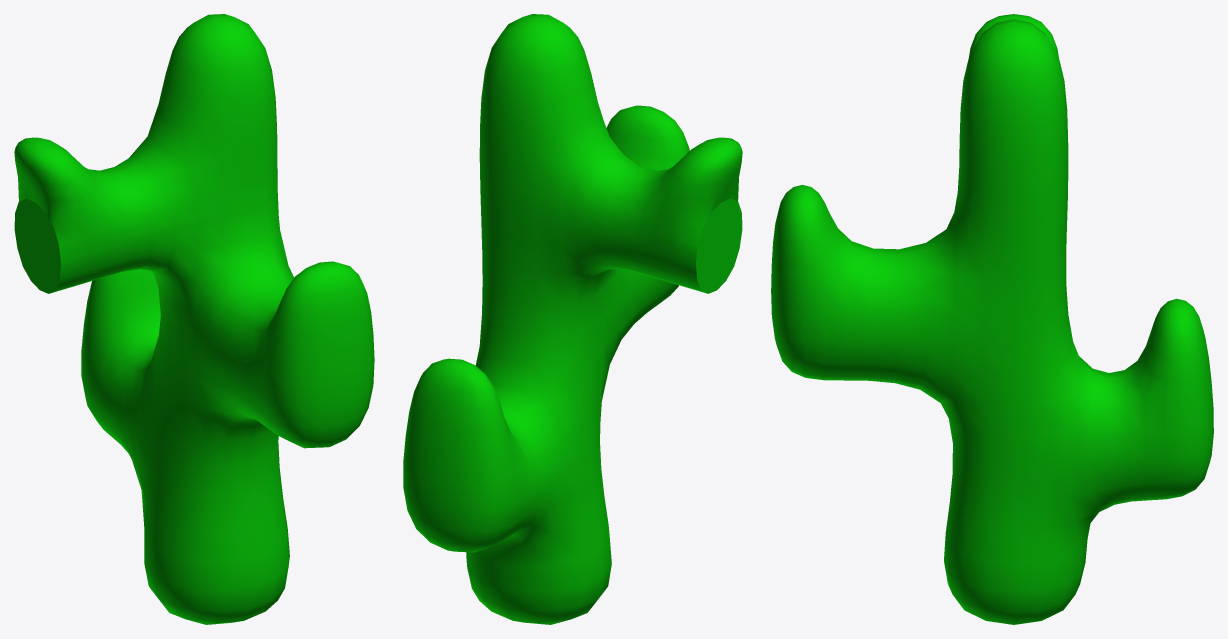
File: Cactus.fbx
3 views of the same model, side by side, from view 1: azimuth 30°, elevation 25°; view 2: azimuth 150°, elevation 25°; view 3: azimuth 270°, elevation 25° (orthographic).
Visible parts, largest first — view 1: Cube; view 2: Cube; view 3: Cube.
Boxes of the visible parts, <box> form: Cube: <box>14,14,374,624</box>; Cube: <box>403,14,742,624</box>; Cube: <box>771,14,1213,624</box>.
Size of the model in its own units: 487 by 1077 by 729.
